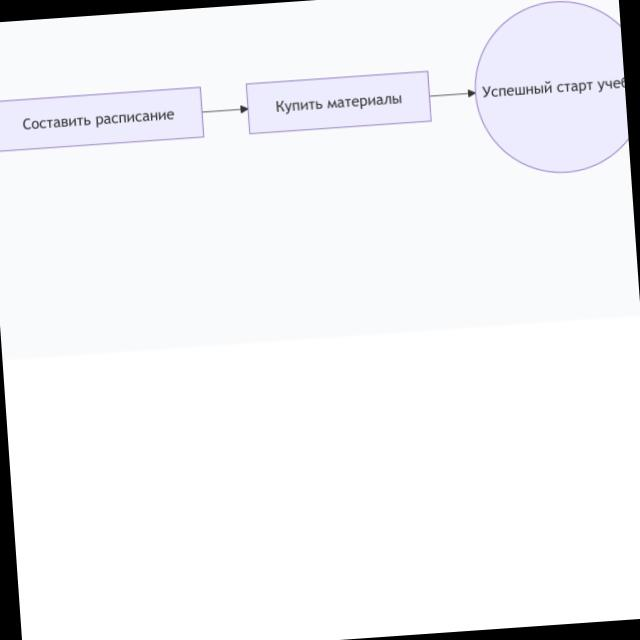arrow: (200, 101, 248, 121), (429, 86, 476, 102)
rectangle: (0, 88, 205, 154), (243, 70, 430, 135)
